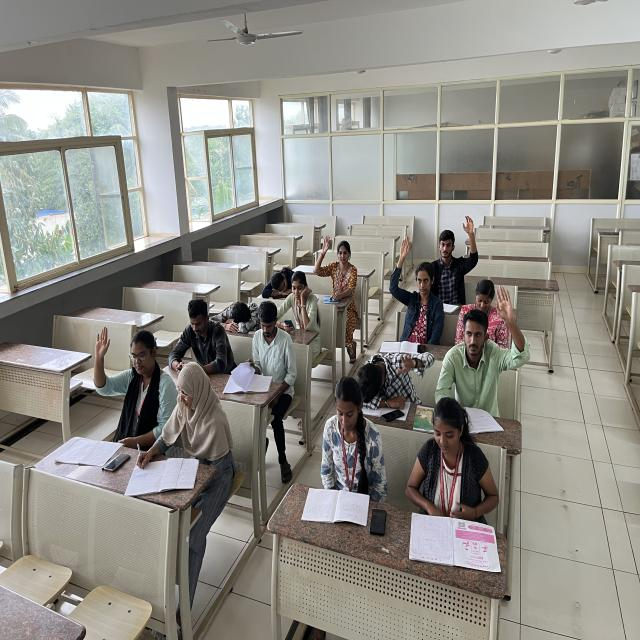Hand Rising: (82, 318, 168, 441), (436, 284, 526, 396), (383, 229, 444, 339), (309, 226, 361, 309), (431, 205, 478, 288)
Reading: (297, 369, 380, 536), (410, 394, 492, 550)
Sleeping: (209, 294, 260, 332), (258, 260, 295, 299)
Using Phone: (282, 269, 318, 336)
Writing: (135, 364, 233, 504)
